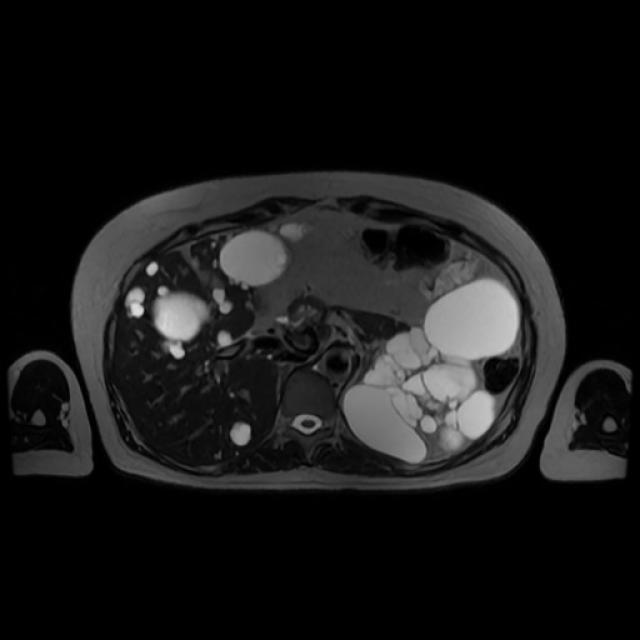sol: (346, 273, 519, 466)
